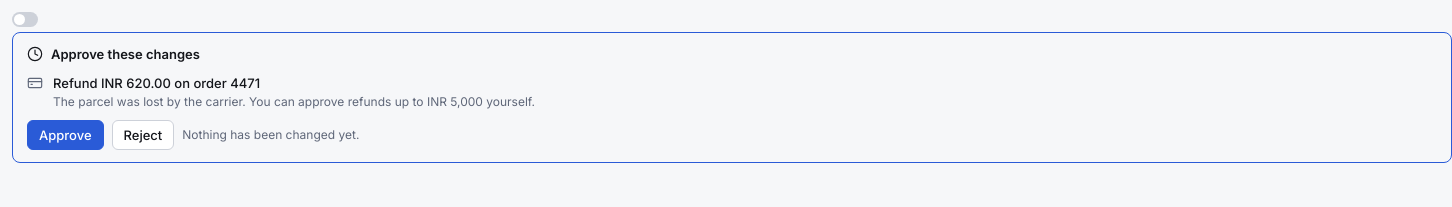
rejecting › shows the error when rejecting fails
Click the button "Reject" at (143, 135), box [112,120,174,150]
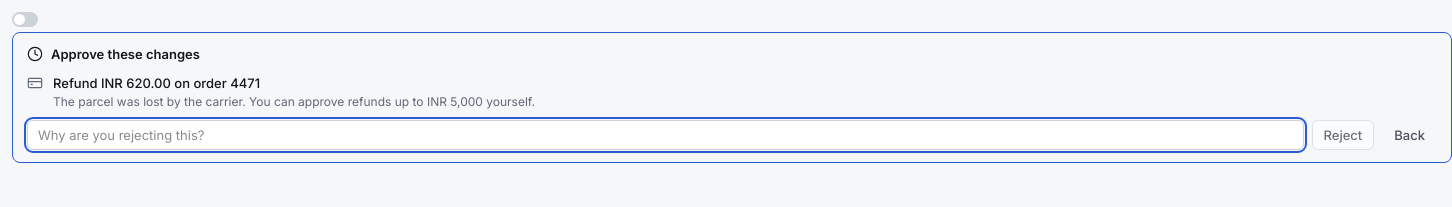
Type "Wrong order." into the field at (665, 135), box [27,120,1304,150]
Then press Enter
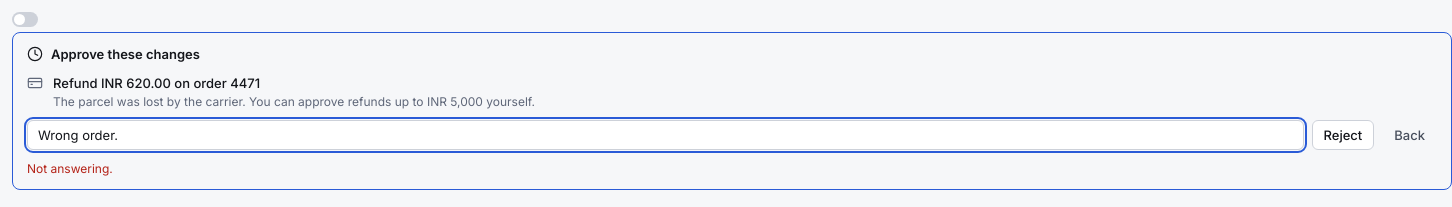
Check: the message reads "Not answering.", box [27,161,113,176]
